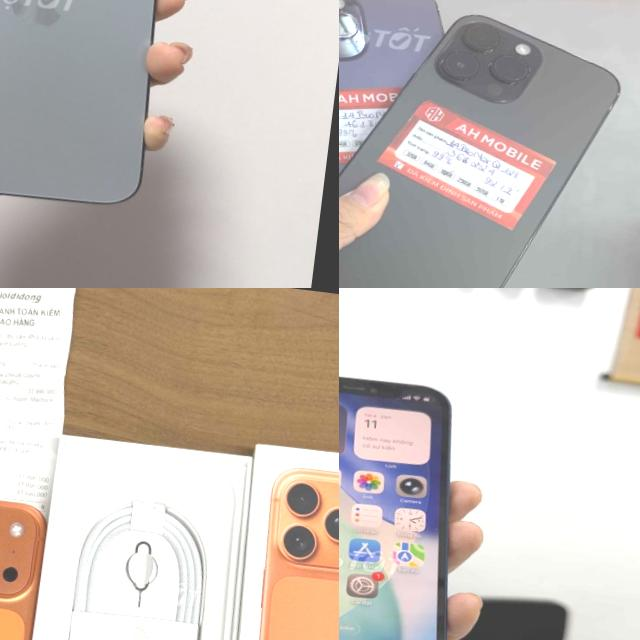gen_12_13: (339, 363, 485, 640), (0, 0, 156, 202)
gen_14: (339, 15, 619, 288), (339, 10, 433, 288)
